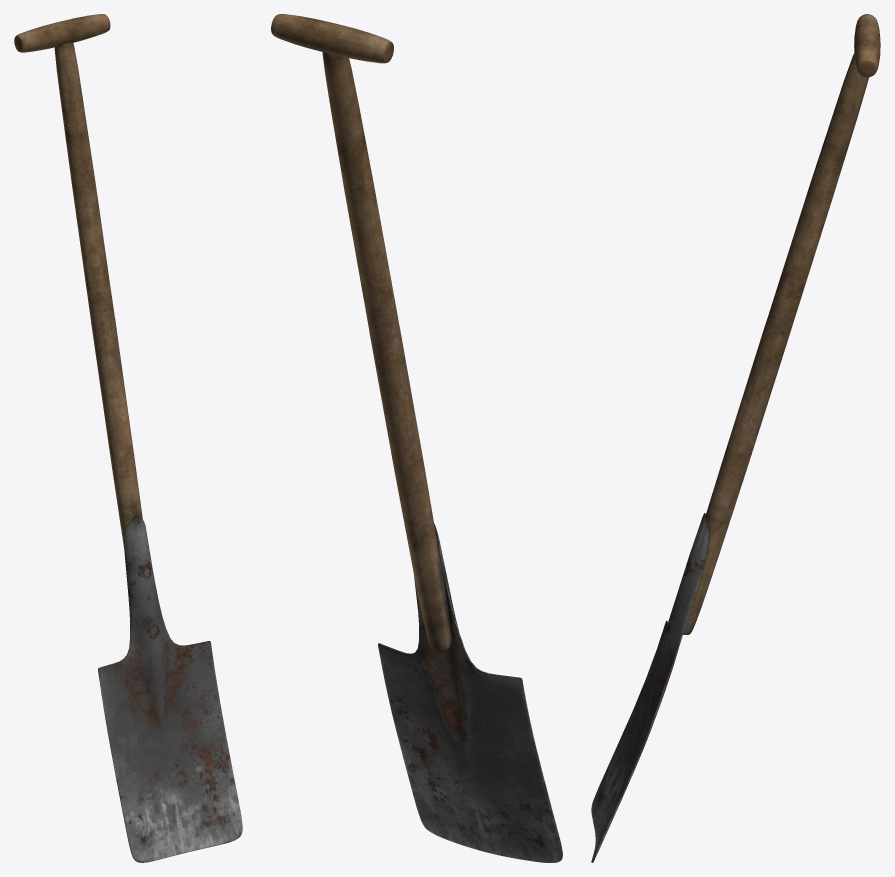
The model's file is shovel.glb.
3 views of the same model, side by side, from view 1: azimuth 30°, elevation 25°; view 2: azimuth 150°, elevation 25°; view 3: azimuth 270°, elevation 25° (orthographic). The views are drawn at different scales.
Visible parts, largest first — view 1: shovel; view 2: shovel; view 3: shovel.
Boxes of the visible parts, left/top/right/bottom form: shovel: left=14, top=14, right=242, bottom=862; shovel: left=271, top=14, right=562, bottom=862; shovel: left=591, top=14, right=880, bottom=862.
Size of the model in its own units: 0.1681 by 1.05 by 0.342.
1 material, 1 textured.
